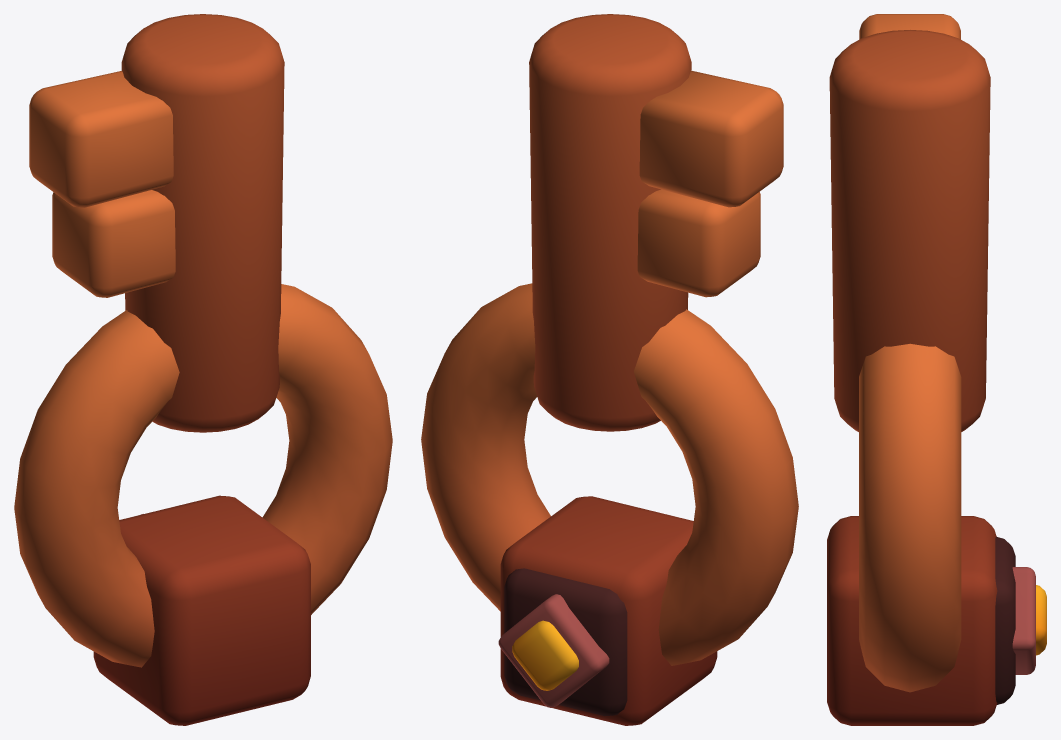
Rendered from Key_V2_0.fbx.
The picture shows the model from 3 angles, left to right: view 1: azimuth 30°, elevation 25°; view 2: azimuth 150°, elevation 25°; view 3: azimuth 270°, elevation 25°; orthographic projection.
Parts seen in each view (by area): view 1: Key_V2_0; view 2: Key_V2_0; view 3: Key_V2_0.
Part boxes in pixels (x1=…): Key_V2_0: x1=14, y1=14, x2=392, y2=725; Key_V2_0: x1=421, y1=14, x2=798, y2=725; Key_V2_0: x1=827, y1=14, x2=1046, y2=725.
Bounding box in the file's own units: 0.2821 × 0.4802 × 0.1489.
